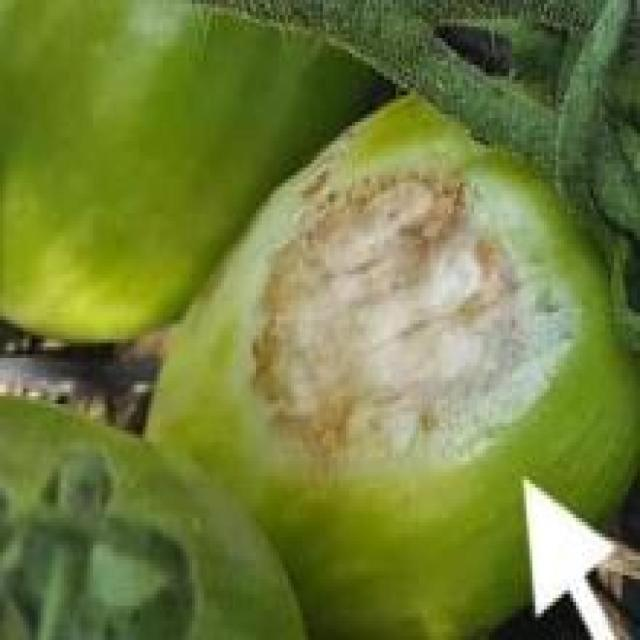Sunscald Fruit: (149, 95, 388, 332)
